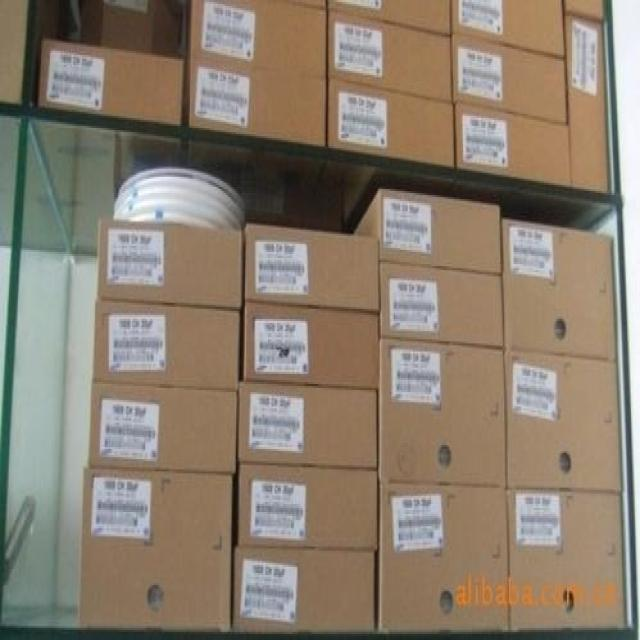box: (78, 469, 239, 632), (378, 482, 509, 632), (380, 339, 508, 490), (508, 490, 627, 634), (504, 347, 622, 492), (503, 219, 616, 360), (87, 378, 237, 473), (92, 297, 242, 390), (97, 217, 244, 311), (236, 378, 380, 473), (231, 547, 380, 632), (40, 41, 189, 126), (189, 55, 331, 144), (239, 465, 380, 553), (240, 303, 380, 390), (241, 223, 381, 309), (355, 191, 503, 272), (326, 8, 453, 98), (327, 77, 455, 165), (378, 262, 504, 351), (450, 30, 568, 124), (191, 0, 327, 77), (454, 102, 572, 187), (564, 12, 611, 191), (450, 4, 568, 57), (327, 2, 450, 35), (564, 0, 604, 24)
